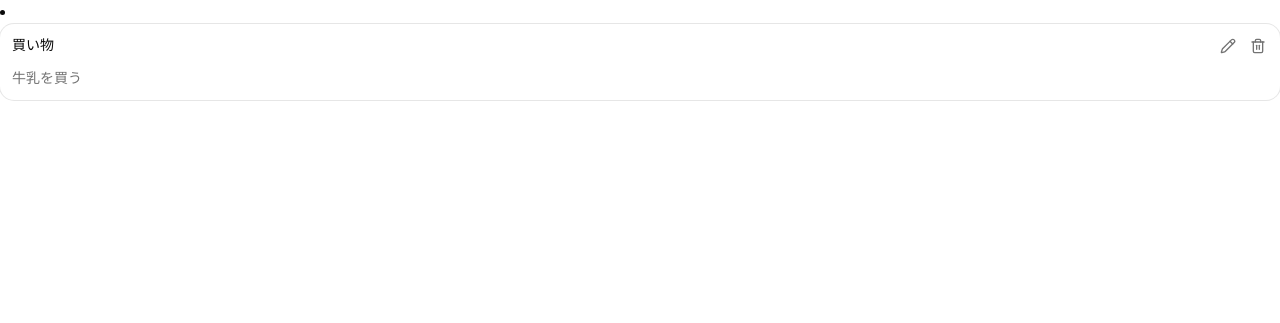
TaskCard 編集 › 編集ボタンを押すと、現在の値が入った編集フォームに切り替わる
Click the button named "「買い物」を編集". click: point(1228, 46)
box: [1214,32,1242,60]
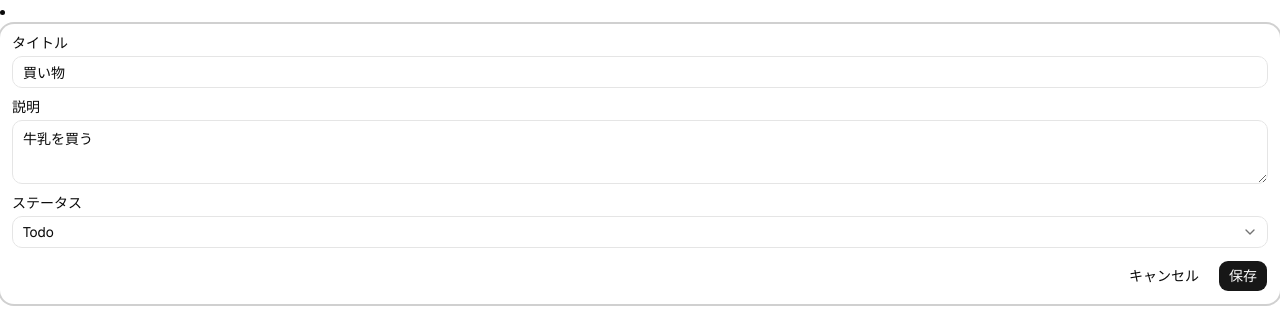
Expected: the field labelled "タイトル" holds "買い物", [12,56,1268,88]
Expected: the text box labelled "説明" holds "牛乳を買う", [12,120,1268,184]
Expected: the dropdown labelled "ステータス" shows "Todo", [12,216,1268,248]
